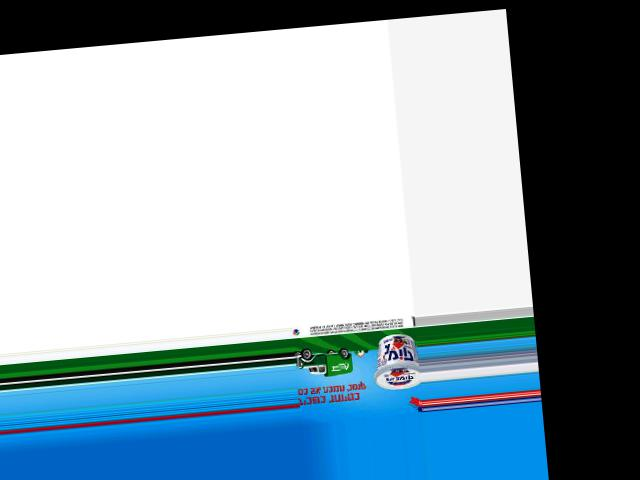cotage: (371, 331, 420, 392)
